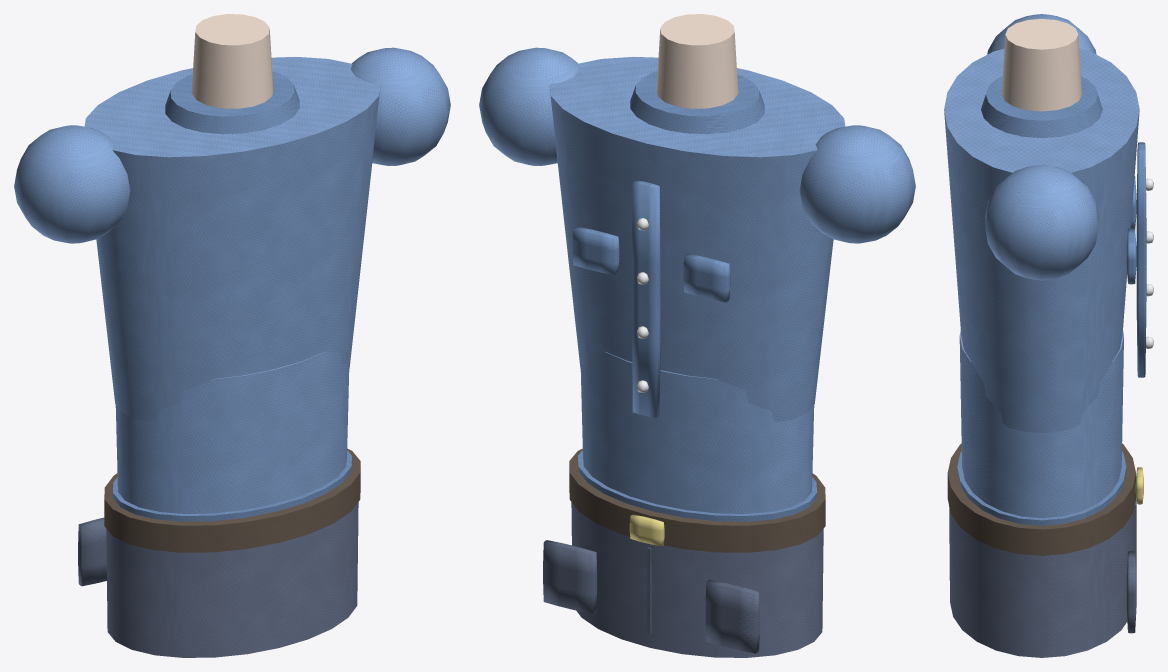
File: person_torso.glb
3 renders of one model, left to right at view 1: azimuth 30°, elevation 25°; view 2: azimuth 150°, elevation 25°; view 3: azimuth 270°, elevation 25°, orthographic. The views are drawn at different scales.
Parts seen in each view (by area): view 1: person_torso_body, Neck; view 2: person_torso_body, Neck; view 3: person_torso_body, Neck.
Part boxes in pixels (<box>): person_torso_body: <box>14,47,450,657</box>; Neck: <box>191,14,273,108</box>; person_torso_body: <box>479,47,915,657</box>; Neck: <box>656,14,738,108</box>; person_torso_body: <box>944,14,1153,657</box>; Neck: <box>1001,19,1081,111</box>.
Bounding box in the file's own units: 0.57 × 0.755 × 0.2527.
Materials: 8 (7 with a texture image).
